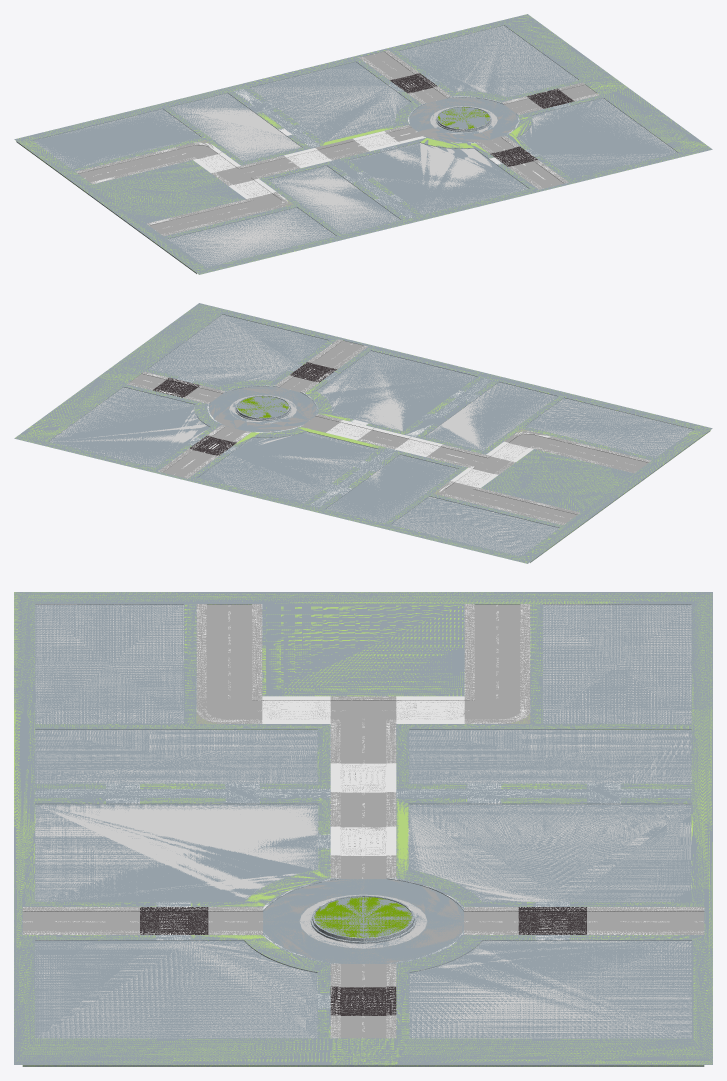
Rendered from Road2.fbx.
The picture shows the model from 3 angles, top to bottom: view 1: azimuth 30°, elevation 25°; view 2: azimuth 150°, elevation 25°; view 3: azimuth 270°, elevation 25°; orthographic projection. The views are drawn at different scales.
Parts seen in each view (by area): view 1: Model, Component_2_5, Component_2_6, Component_2_9, Component_2_8, Component_1_5, Component_1_3, Component_1_1, Component_1_2, Component_1_4, Component_1_7, Component_1_6 (+16 smaller); view 2: Model, Component_2_6, Component_2_5, Component_2_9, Component_2_8, Component_1_6, Component_1_2, Component_1_1, Component_1_3, Component_1_4, Component_1_7, Component_1_5 (+16 smaller); view 3: Model, Component_2_5, Component_2_6, Component_2_9, Component_2_8, Component_1_7, Component_1_1, Component_1_4, Component_1_2, Component_1_3, Component_1_5, Component_1_6 (+16 smaller).
Part boxes in pixels (x1,y1,x2,y2): Model: [14, 14, 712, 274]; Component_2_5: [358, 50, 419, 80]; Component_2_6: [508, 160, 568, 189]; Component_2_9: [241, 155, 300, 178]; Component_2_8: [315, 138, 369, 160]; Component_1_5: [193, 152, 240, 172]; Component_1_3: [490, 146, 537, 166]; Component_1_1: [353, 131, 400, 151]; Component_1_2: [390, 73, 437, 93]; Component_1_4: [526, 88, 574, 108]; Component_1_7: [284, 148, 331, 167]; Component_1_6: [229, 178, 276, 198]; Model: [14, 303, 712, 563]; Component_2_6: [307, 339, 368, 369]; Component_2_5: [158, 449, 218, 478]; Component_2_9: [426, 444, 485, 467]; Component_2_8: [357, 427, 411, 449]; Component_1_6: [486, 441, 533, 461]; Component_1_2: [189, 435, 236, 455]; Component_1_1: [326, 420, 373, 440]; Component_1_3: [289, 362, 336, 382]; Component_1_4: [152, 377, 200, 397]; Component_1_7: [395, 437, 442, 456]; Component_1_5: [450, 467, 497, 487]; Model: [14, 592, 712, 1066]; Component_2_5: [587, 907, 704, 934]; Component_2_6: [22, 907, 139, 934]; Component_2_9: [330, 724, 396, 763]; Component_2_8: [330, 792, 396, 827]; Component_1_7: [330, 763, 396, 792]; Component_1_1: [330, 826, 396, 855]; Component_1_4: [330, 986, 396, 1015]; Component_1_2: [518, 907, 586, 934]; Component_1_3: [140, 907, 208, 934]; Component_1_5: [396, 696, 464, 723]; Component_1_6: [262, 696, 330, 723].
Size of the model in its own units: 13128 by 77 by 8200.
